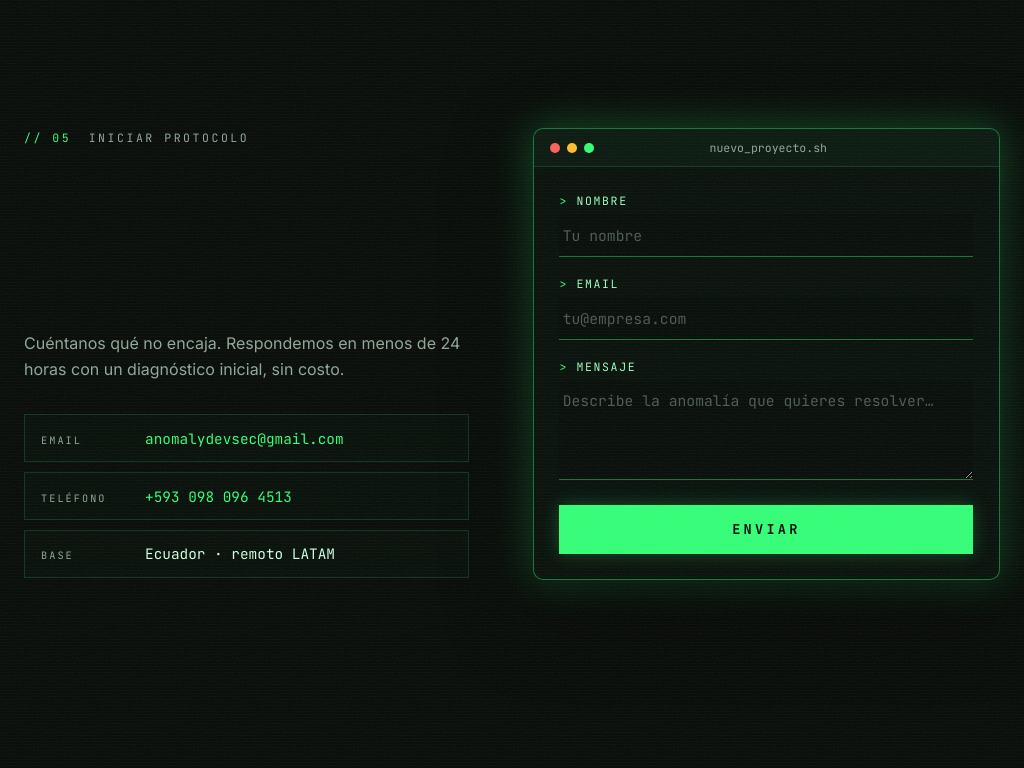
Contact › shows a validation error when submitting with empty fields
This screenshot has width=1024, height=768.
Click the button "Enviar".
click(766, 529)  # box [560,505,973,554]
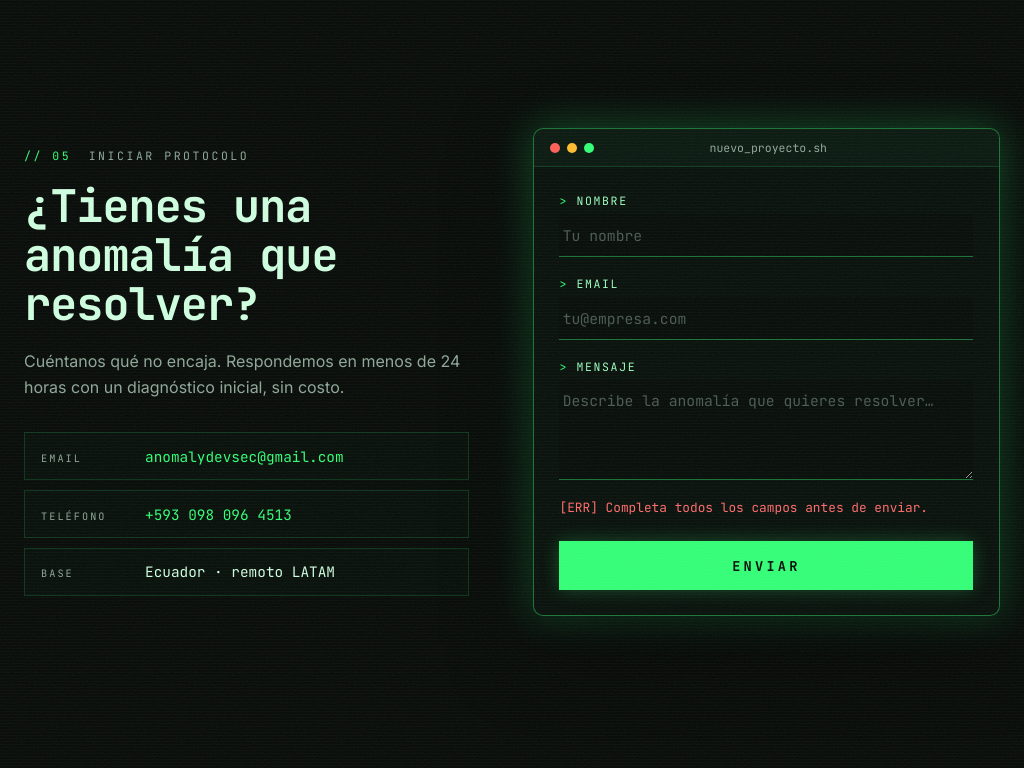
Check: the text "Completa todos los campos antes de enviar." is shown, box [606,499,928,516]
